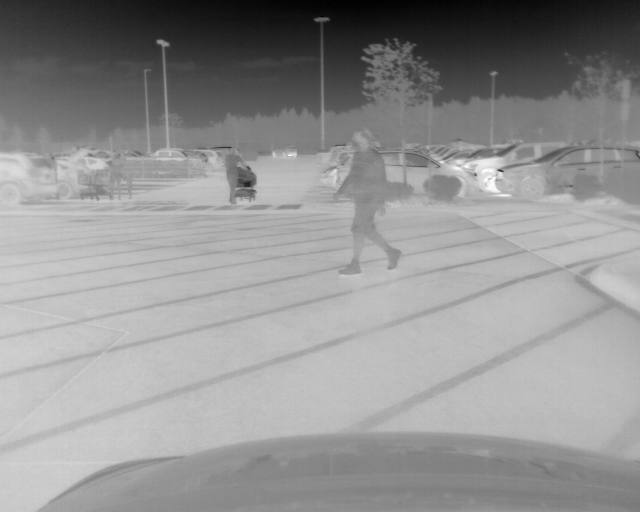car: (491, 143, 640, 206), (336, 148, 476, 201), (467, 140, 579, 190), (1, 151, 59, 205), (57, 157, 96, 201), (151, 146, 207, 165), (202, 148, 226, 173), (271, 145, 299, 159)
people: (336, 129, 401, 276), (225, 147, 247, 204), (107, 158, 123, 199), (122, 156, 134, 199)
